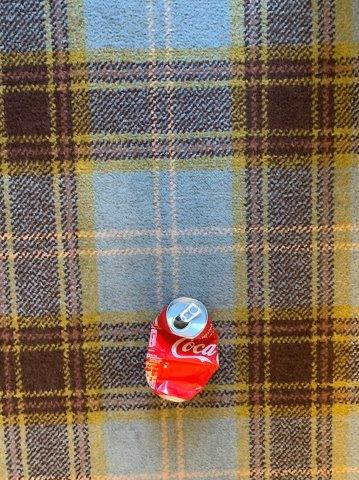kaleng: (148, 299, 219, 398)
